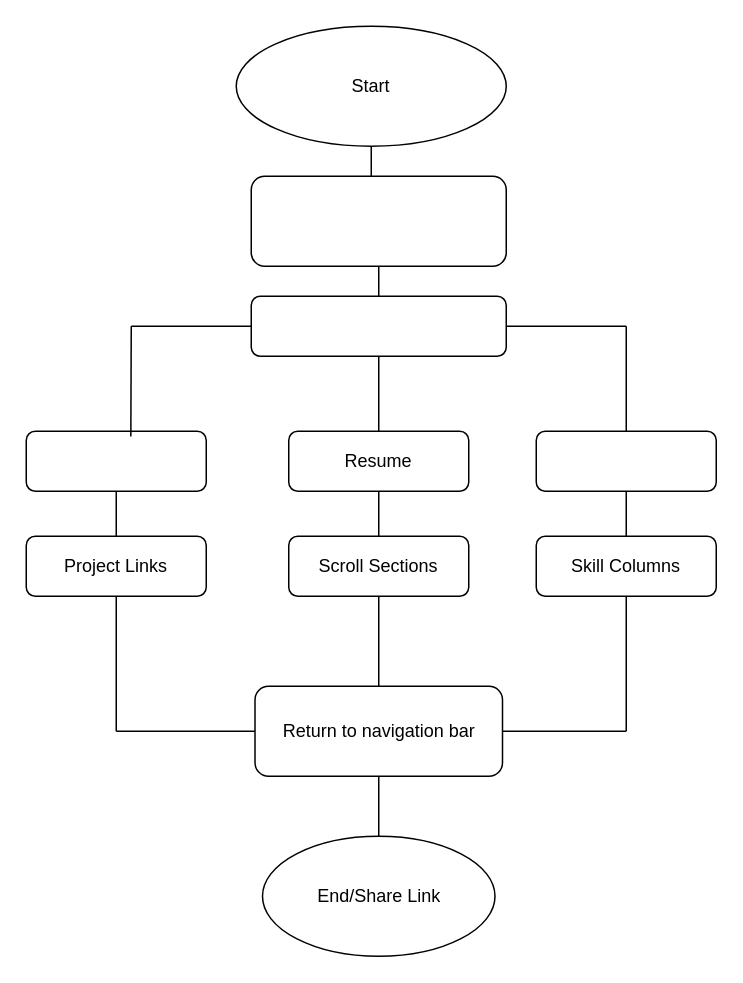
Some shapes in this 743 by 983 pixel diagram are drawn without their labels. The shapes that lost their labels are listed below. From the top down, each one's box as (x1, y1, x2, y2) in pixels, then its label:
(250, 175, 506, 266): Homepage
(250, 295, 506, 356): Navigation Bar
(25, 430, 206, 491): About Me
(535, 430, 716, 491): Skills
